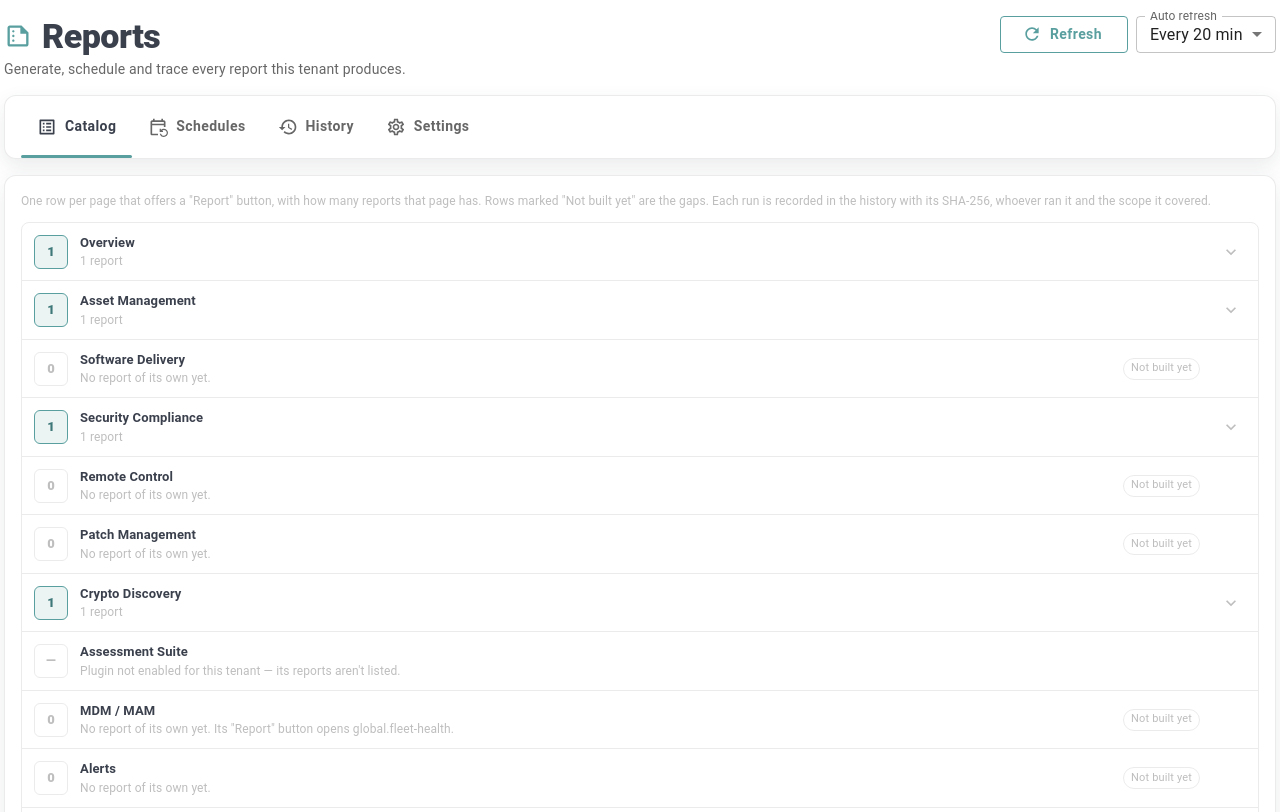
Reports — schedules (E3) › a backend without schedules still renders the catalog
Click the tab "Schedules": point(197, 127) top-left (132, 96), bottom-right (262, 158)
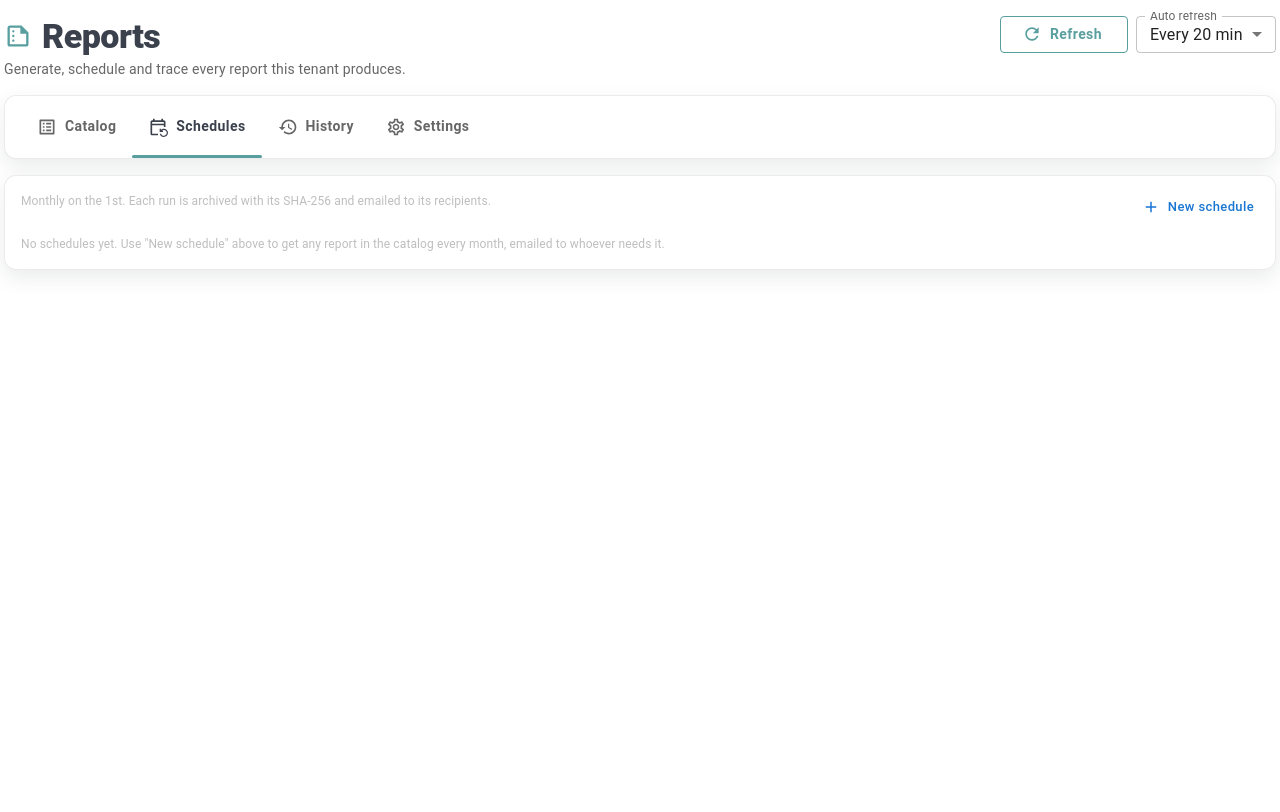
Expected: the text with test id "schedules-empty" is shown, top-left (21, 237), bottom-right (665, 251)
